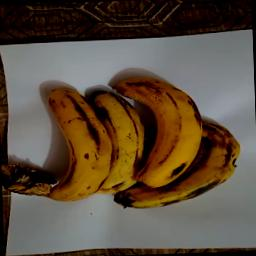Banana Unripe: (111, 70, 206, 192), (27, 82, 115, 204), (86, 78, 152, 205)
